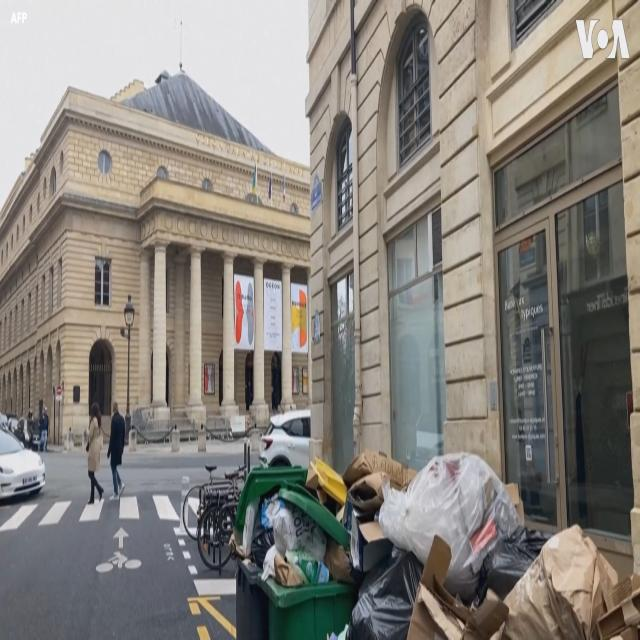high trash: (260, 451, 640, 640)
